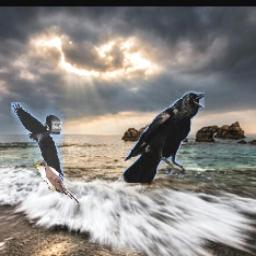Crow: (124, 90, 206, 183), (11, 103, 63, 184)
Cuckoo: (33, 161, 79, 205)
